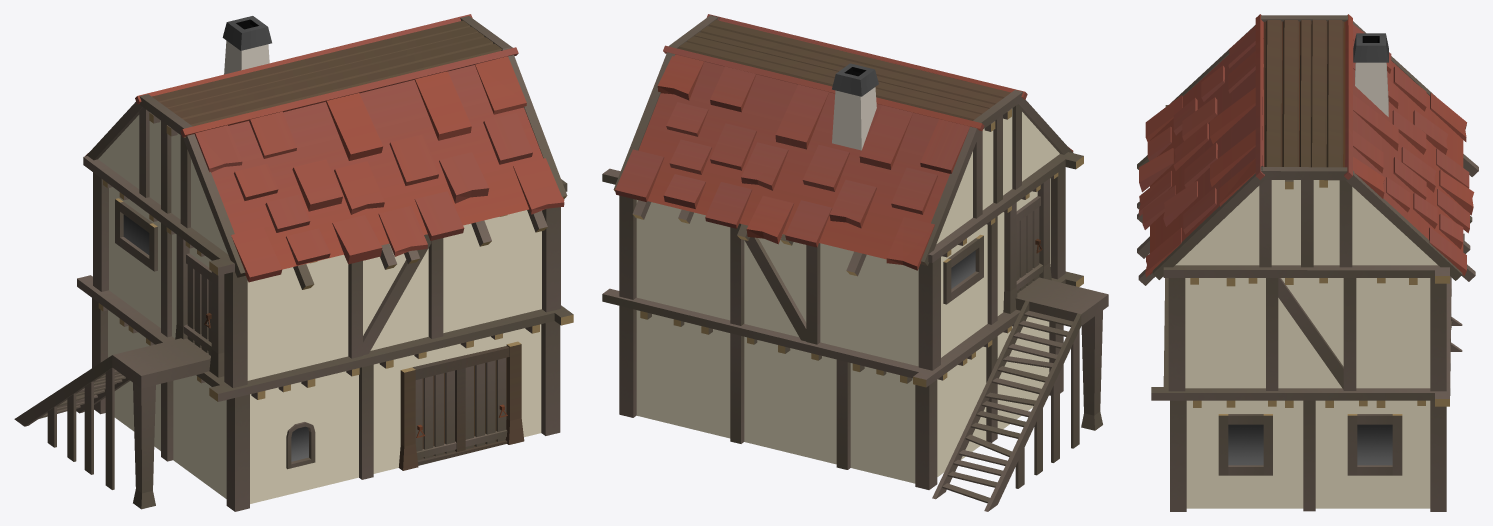
File: House_10.fbx
3 views of the same model, side by side, from view 1: azimuth 30°, elevation 25°; view 2: azimuth 150°, elevation 25°; view 3: azimuth 270°, elevation 25° (orthographic). The views are drawn at different scales.
Visible parts, largest first — view 1: polySurface9619; view 2: polySurface9619; view 3: polySurface9619.
Part boxes in pixels (x1,y1,x2,y2): polySurface9619: [14, 14, 573, 511]; polySurface9619: [602, 14, 1108, 511]; polySurface9619: [1137, 14, 1478, 511].
Size of the model in its own units: 968 by 861 by 716.
